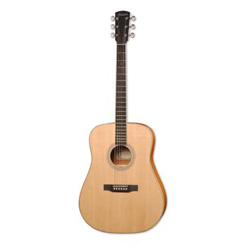guitar: (77, 10, 168, 235)
